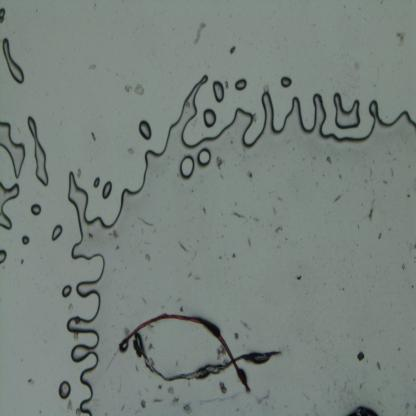Air bubble: (119, 75, 416, 200), (66, 164, 130, 416), (0, 120, 26, 178), (26, 117, 48, 185), (330, 92, 362, 132), (2, 39, 26, 85), (0, 180, 20, 230), (179, 154, 195, 180), (195, 146, 213, 168), (137, 120, 153, 140), (202, 108, 217, 129), (57, 378, 71, 400), (212, 81, 224, 104), (48, 224, 63, 242), (101, 179, 113, 200), (234, 77, 247, 92), (30, 203, 43, 215), (62, 284, 73, 298), (280, 76, 292, 88), (91, 175, 101, 189), (0, 250, 7, 266), (22, 233, 31, 245), (0, 9, 6, 24)
Background material: (344, 402, 378, 416), (122, 80, 148, 96), (191, 21, 206, 45), (320, 148, 335, 169), (138, 214, 154, 231), (175, 237, 188, 254), (332, 189, 343, 207), (395, 257, 408, 272), (396, 32, 406, 50), (218, 380, 228, 396), (138, 249, 150, 262), (272, 224, 283, 238), (87, 62, 101, 72), (216, 344, 225, 359), (214, 155, 223, 170), (138, 397, 148, 410), (110, 229, 120, 241), (188, 272, 200, 282), (183, 401, 192, 414), (356, 350, 364, 364), (368, 204, 375, 220), (233, 211, 246, 219), (246, 169, 254, 180), (199, 206, 207, 216), (230, 249, 238, 258), (90, 131, 96, 143), (172, 395, 179, 405), (167, 384, 174, 394), (229, 45, 236, 55), (178, 302, 184, 313), (296, 274, 302, 282), (377, 233, 383, 240), (406, 193, 412, 200), (218, 255, 221, 259)
Cellulose filter fibre: (136, 334, 283, 381)
Cotton: (119, 309, 251, 390)
